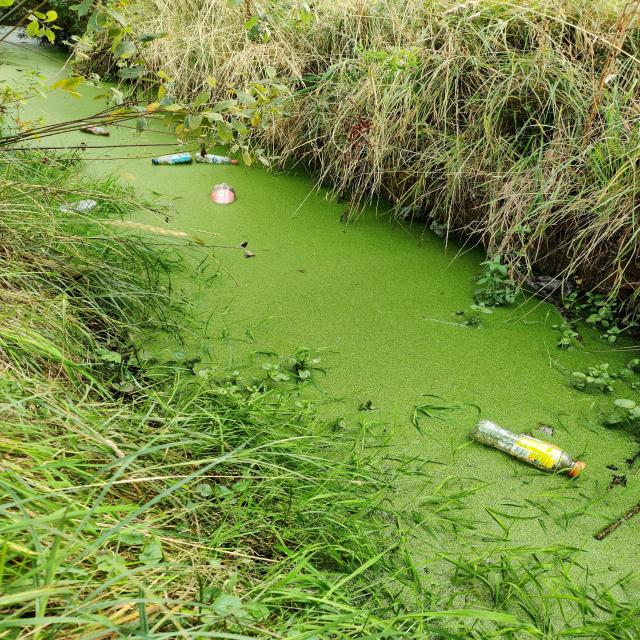litter: (456, 408, 597, 484), (140, 146, 253, 175)
